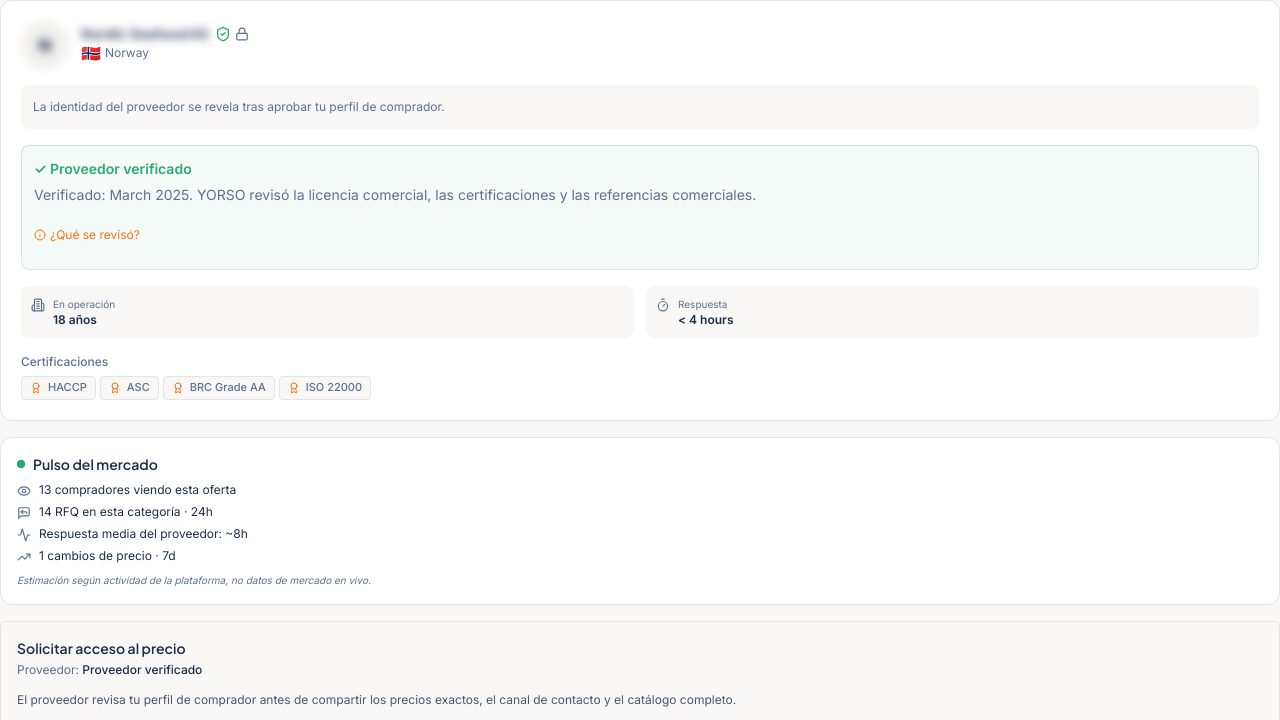
Test: SupplierTrustPanel · offer detail access flow › localizes supplier trust labels in Spanish
Expected: the text "✓ Proveedor verificado" is shown, [34, 160, 192, 176]
Expected: the text "Verificado: March 2025" is shown, [34, 186, 756, 203]
What coordinates should you click on to do the following:
click the button "¿Qué se revisó?"
I would click on:
 (87, 235)
Its box is [34, 213, 140, 257].
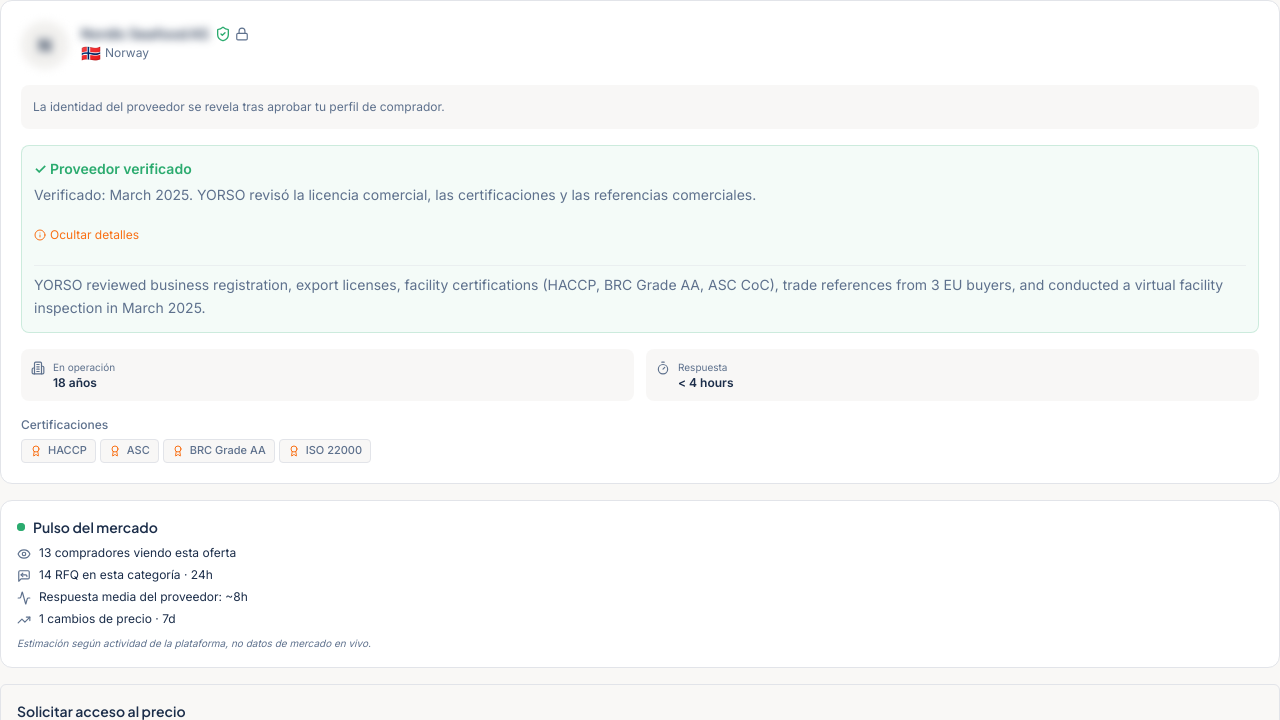
Expected: the button "Ocultar detalles" is shown, [34, 213, 139, 257]
